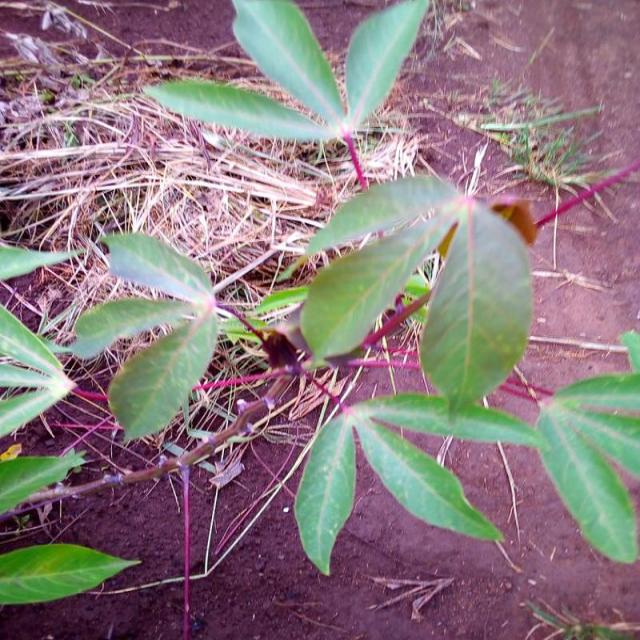cassava leaf: (298, 205, 460, 367), (418, 195, 532, 414), (353, 412, 504, 543), (106, 308, 218, 443), (230, 0, 345, 129), (344, 0, 428, 130), (293, 411, 356, 576), (0, 541, 141, 605)
